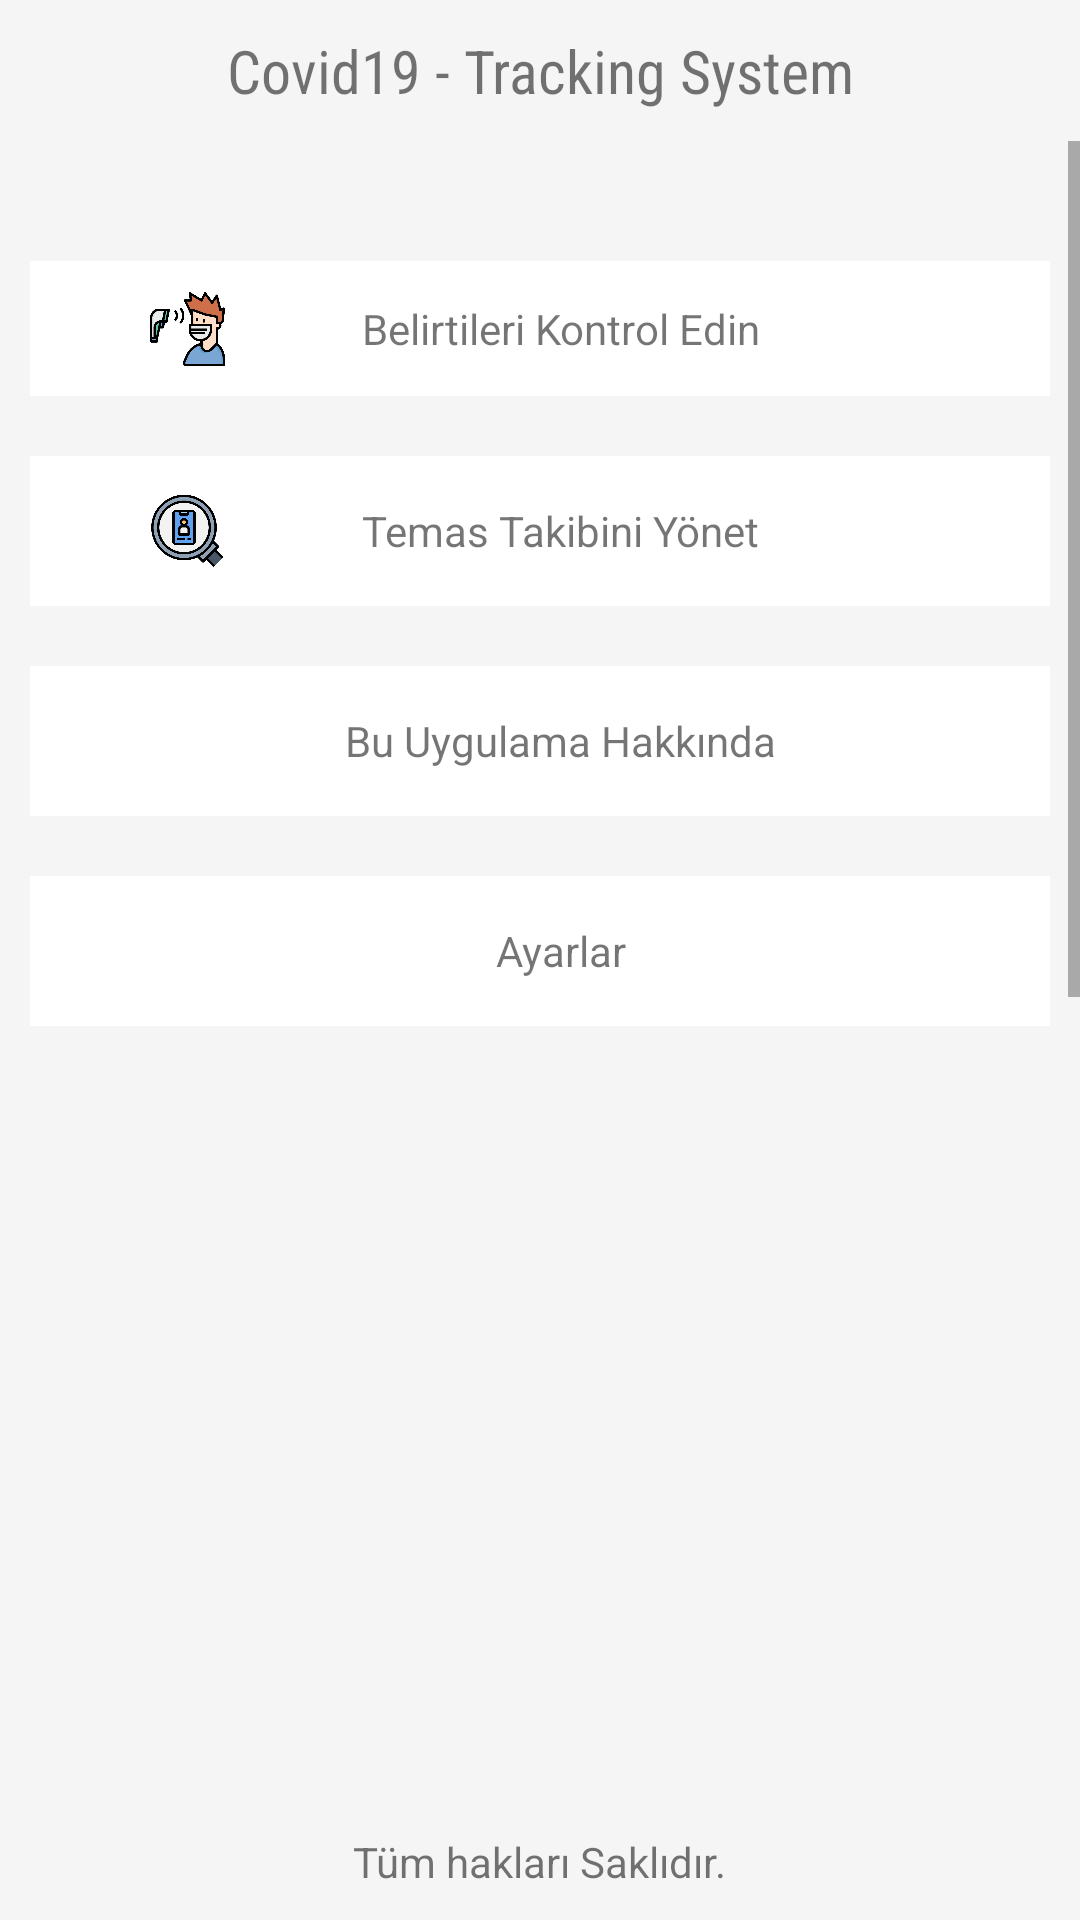

Where icons sit on this 1080px×1920px app screen, as (x1, y1, x2, y2):
scan: (151, 495, 223, 567)
thermometer: (150, 292, 225, 366)
